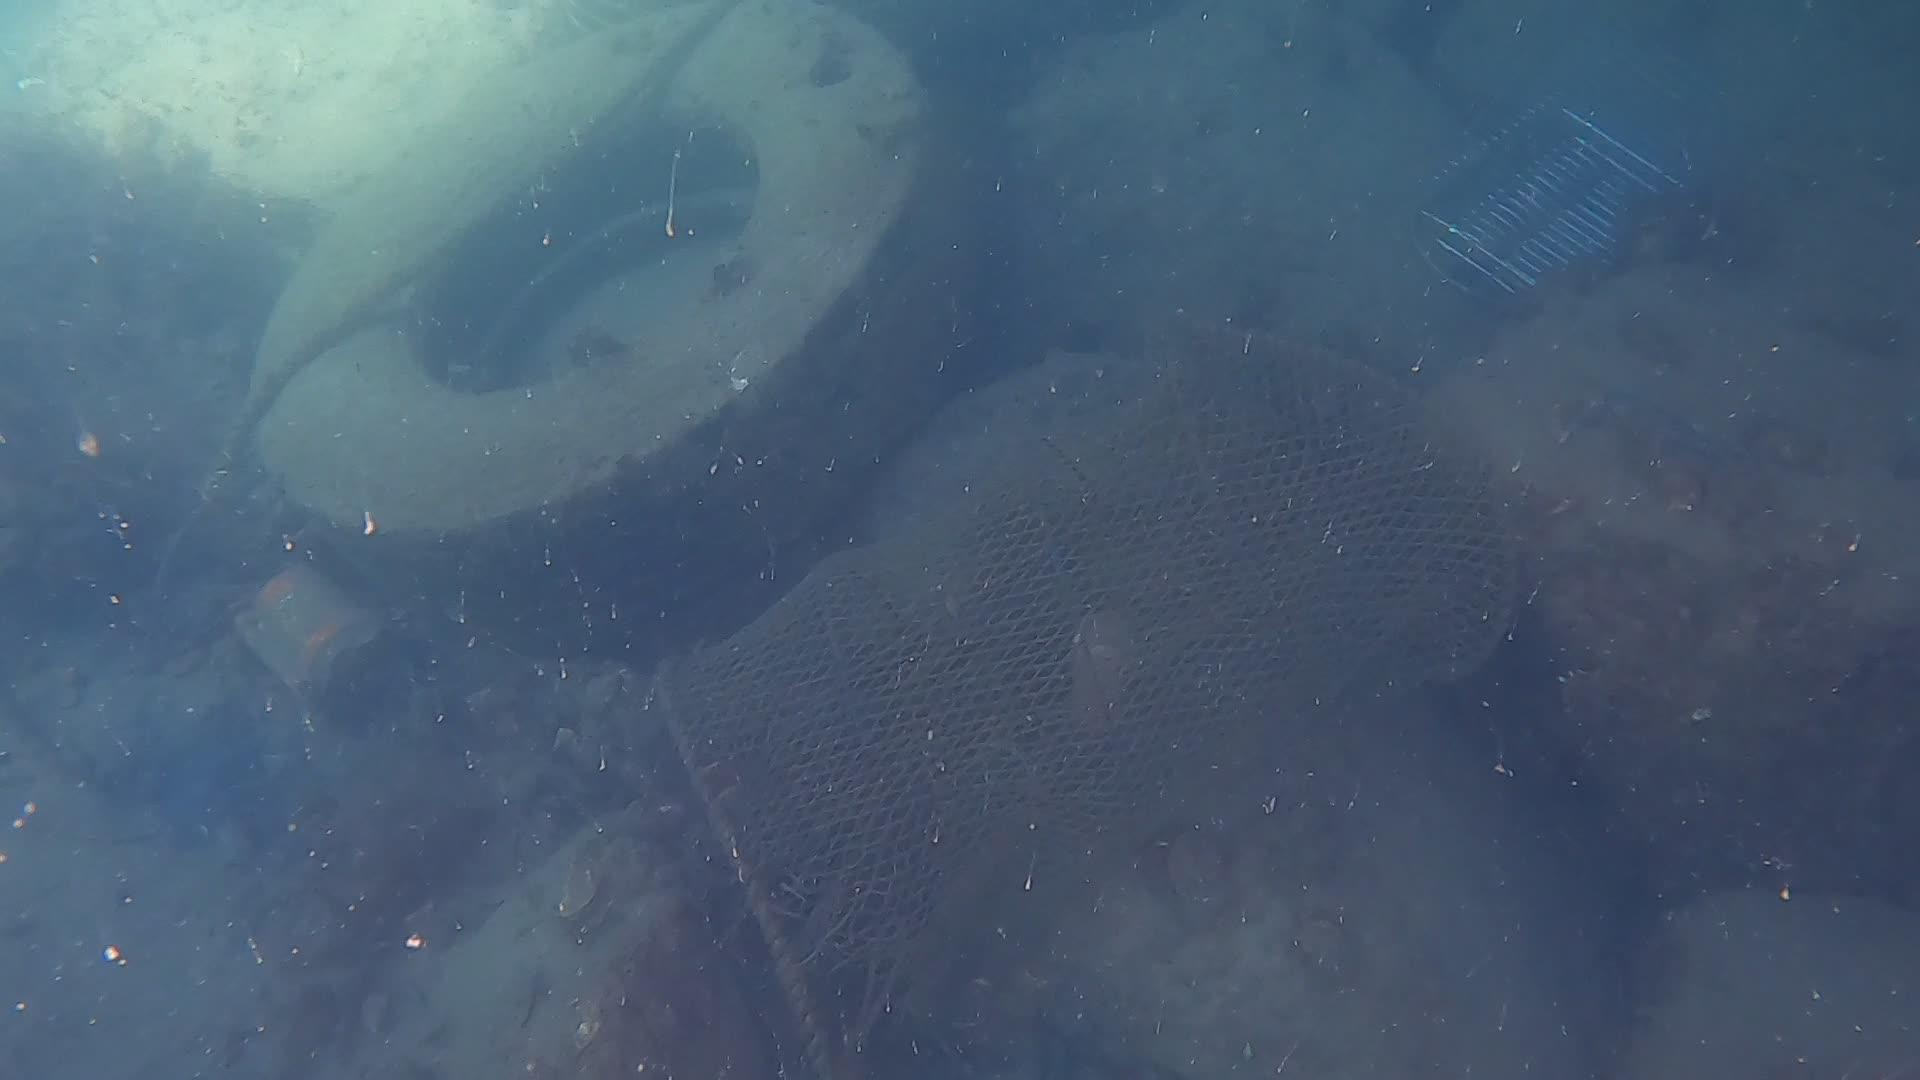spring fish trap: (644, 309, 1523, 1080)
tire: (233, 0, 994, 622)
